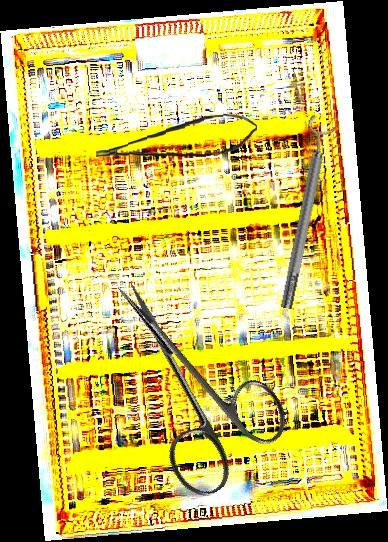Fixation Ring: (269, 114, 341, 312)
Iris Scissors: (68, 248, 302, 506)
Micro Scissor: (93, 110, 259, 164)
